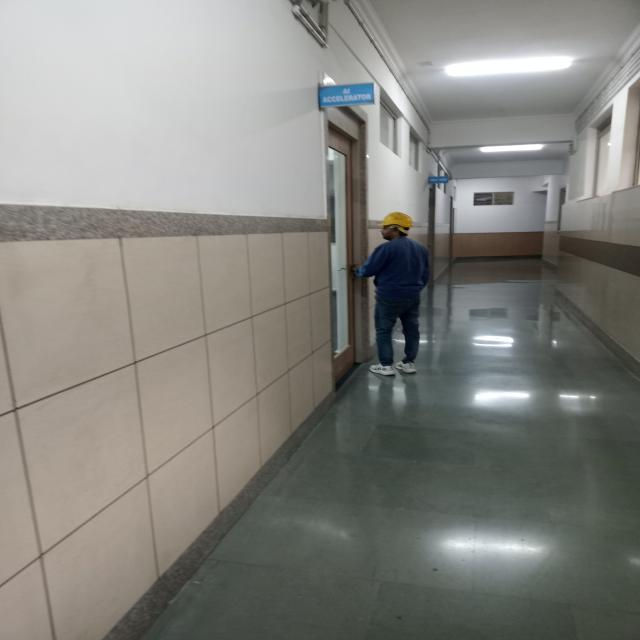no jacket: (360, 210, 434, 378)
